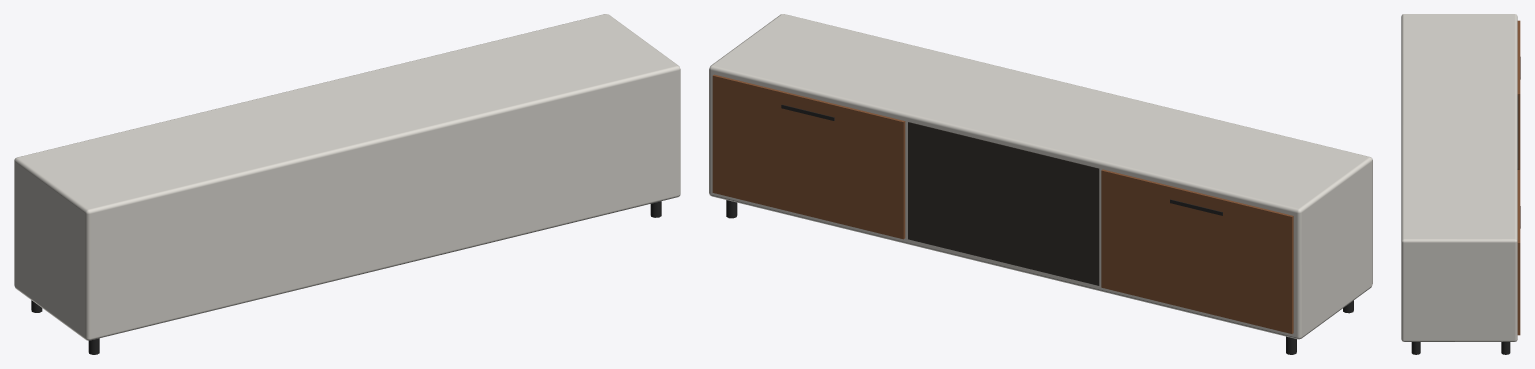
3 views of the same model, side by side, from view 1: azimuth 30°, elevation 25°; view 2: azimuth 150°, elevation 25°; view 3: azimuth 270°, elevation 25° (orthographic). The views are drawn at different scales.
Parts seen in each view (by area): view 1: body; view 2: body, drawer-right, door-left, niche; view 3: body, drawer-right, door-left, niche, leg-rf850, leg-rb850.
Part boxes in pixels (x1,y1,x2,y2): body: (14, 14, 680, 340); body: (709, 14, 1372, 339); drawer-right: (712, 74, 905, 239); door-left: (1101, 169, 1293, 333); niche: (908, 122, 1099, 285); body: (1401, 14, 1517, 341); drawer-right: (1517, 170, 1520, 335); door-left: (1517, 20, 1520, 169); niche: (1517, 95, 1518, 169); leg-rf850: (1501, 342, 1510, 354); leg-rb850: (1411, 342, 1420, 354).
Bounding box in the file's own units: 1.8 × 0.44 × 0.4.
